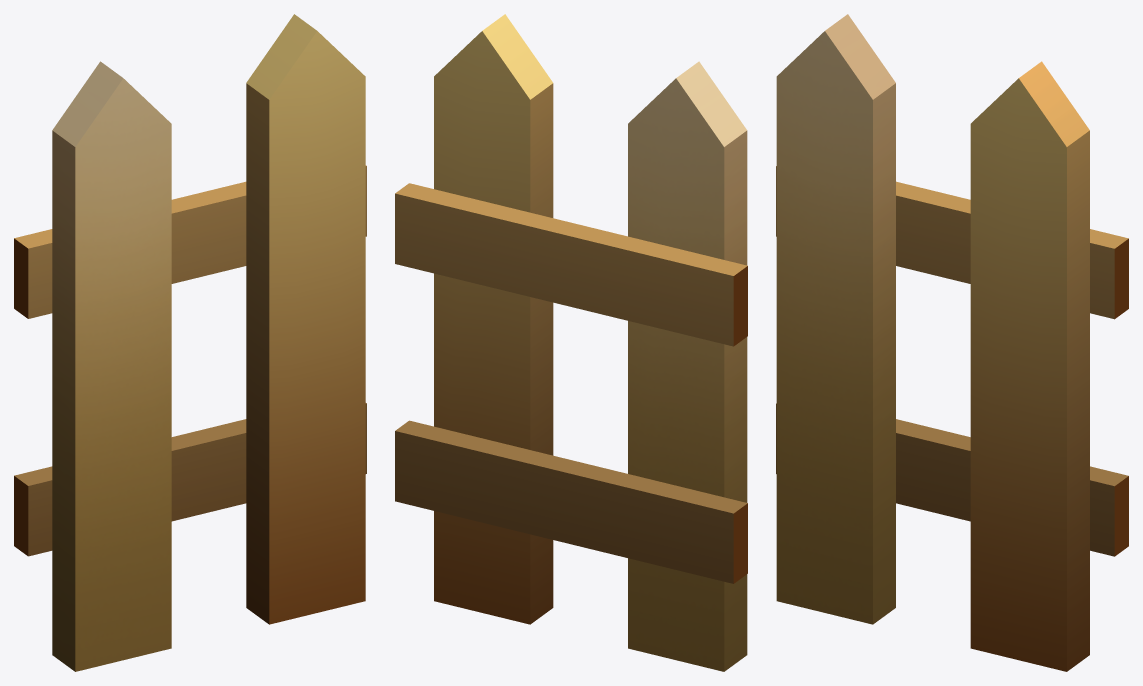
Rendered from Fence_01C.fbx.
The picture shows the model from 3 angles, left to right: view 1: azimuth 30°, elevation 25°; view 2: azimuth 150°, elevation 25°; view 3: azimuth 330°, elevation 25°; orthographic projection.
Parts seen in each view (by area): view 1: Fence_01C; view 2: Fence_01C; view 3: Fence_01C.
Boxes of the visible parts, x1,y1,x2,y2 form: Fence_01C: (14,14,366,671); Fence_01C: (395,14,747,671); Fence_01C: (776,14,1128,671).
Bounding box in the file's own units: 61.43 × 101 × 11.76.
Materials: 1 (1 with a texture image).
